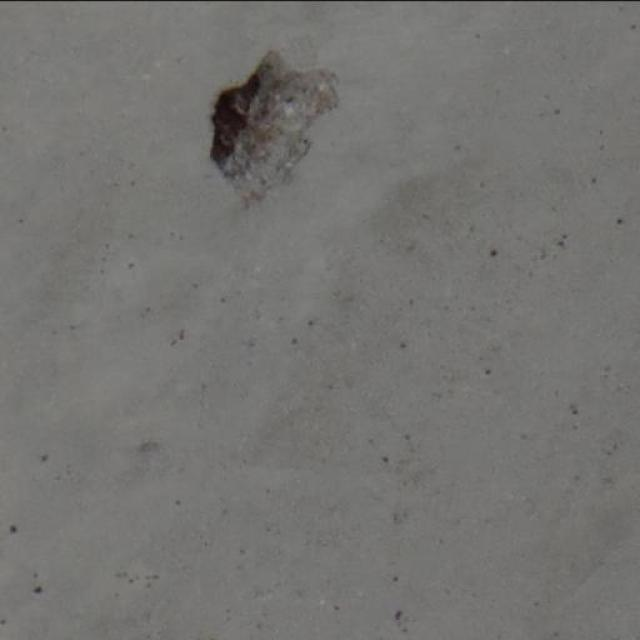D10: (208, 46, 340, 202)
